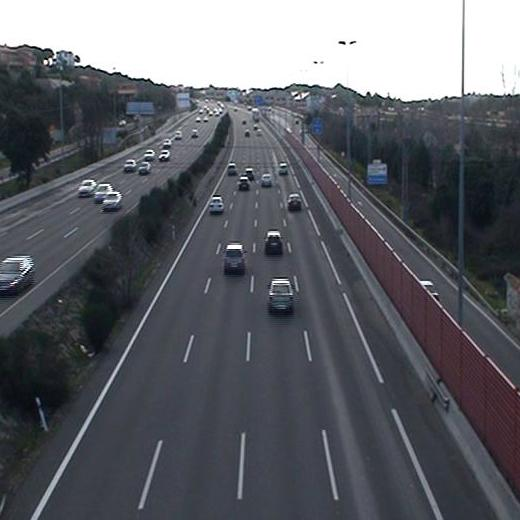car: (263, 274, 299, 318), (218, 241, 250, 279), (260, 227, 287, 260), (205, 192, 229, 217), (284, 191, 305, 215), (235, 176, 253, 194), (259, 172, 276, 189), (225, 162, 239, 177), (277, 160, 289, 174)
